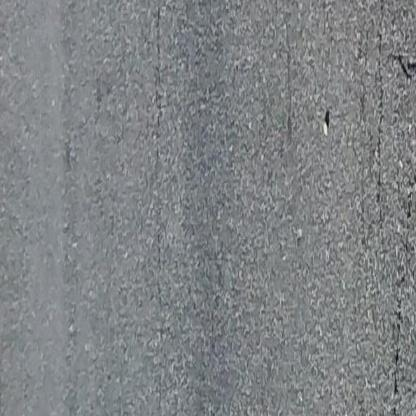Cracks: (303, 94, 348, 157), (373, 39, 416, 80)
